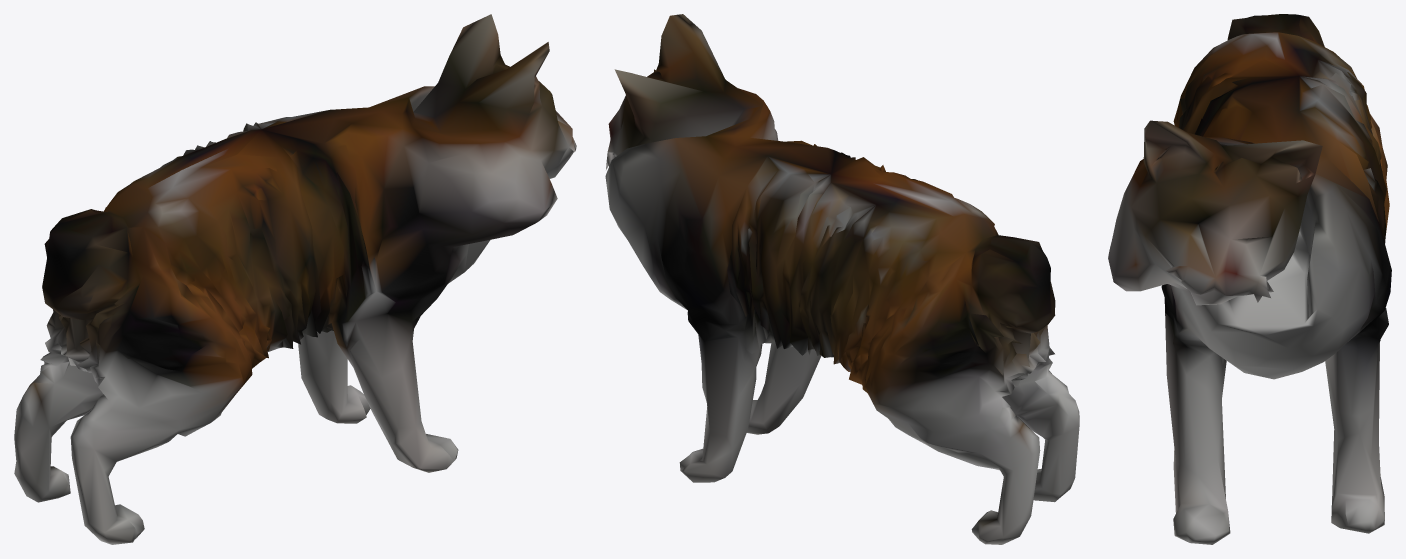
File: gato.glb
The picture shows the model from 3 angles, left to right: view 1: azimuth 30°, elevation 25°; view 2: azimuth 150°, elevation 25°; view 3: azimuth 270°, elevation 25°; orthographic projection. The views are drawn at different scales.
Visible parts, largest first — view 1: fauna/gato.glb; view 2: fauna/gato.glb; view 3: fauna/gato.glb.
Boxes of the visible parts, box(x1,y1,x2,y2) form: fauna/gato.glb: box(14, 14, 576, 544); fauna/gato.glb: box(605, 14, 1079, 544); fauna/gato.glb: box(1108, 14, 1391, 544).
Bounding box in the file's own units: 1.01 × 0.7766 × 0.4205.
